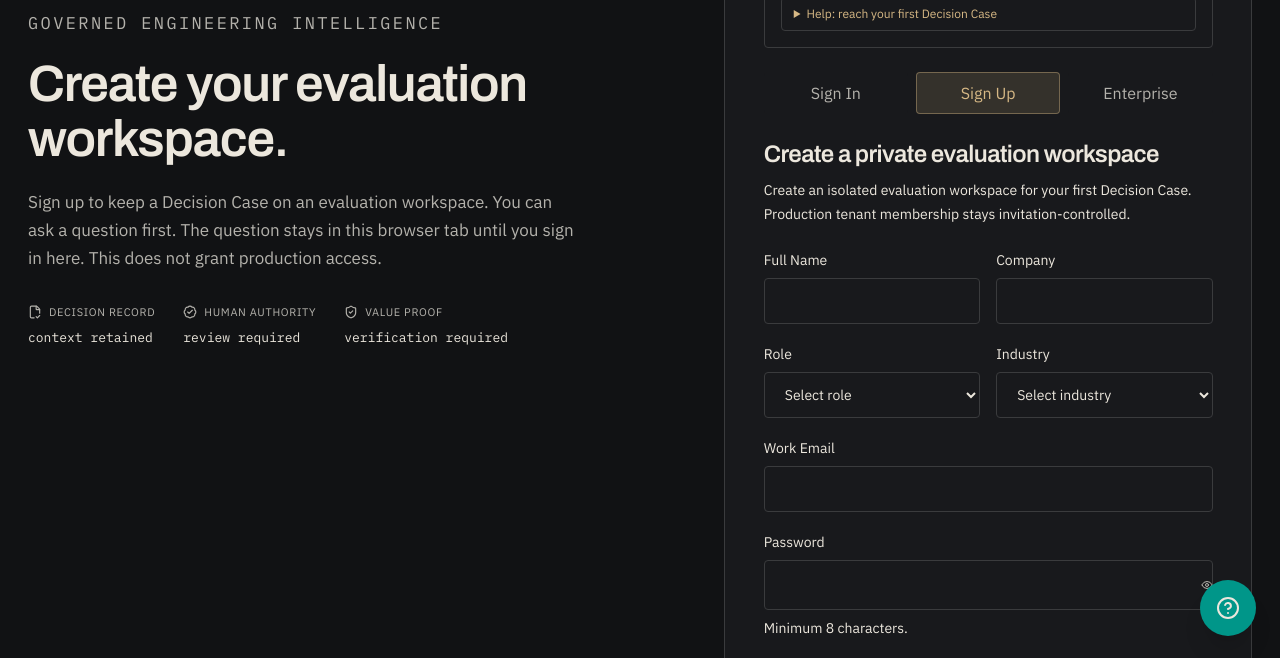
Test case: Signup industry selection › does not offer Create a workspace after signup confirmation
This screenshot has width=1280, height=658.
(page scrolled)
Type "Ada Lovelace" into the field labelled "Full Name". click: (872, 301)
box: [764,278,980,324]
Type "Analytical Engines" into the field labelled "Company". click: (1104, 301)
box: [996,278,1213,324]
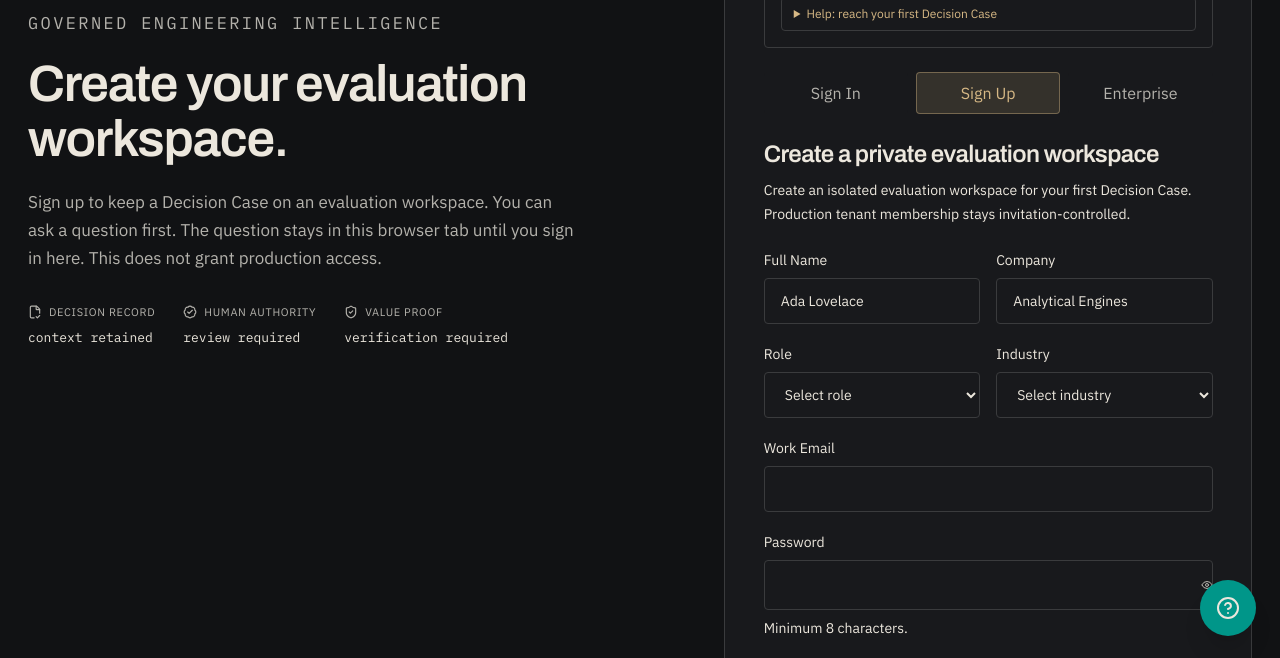
Select "Reliability Engineer" in the dropdown labelled "Role". click: (872, 395)
box: [764,372,980,418]
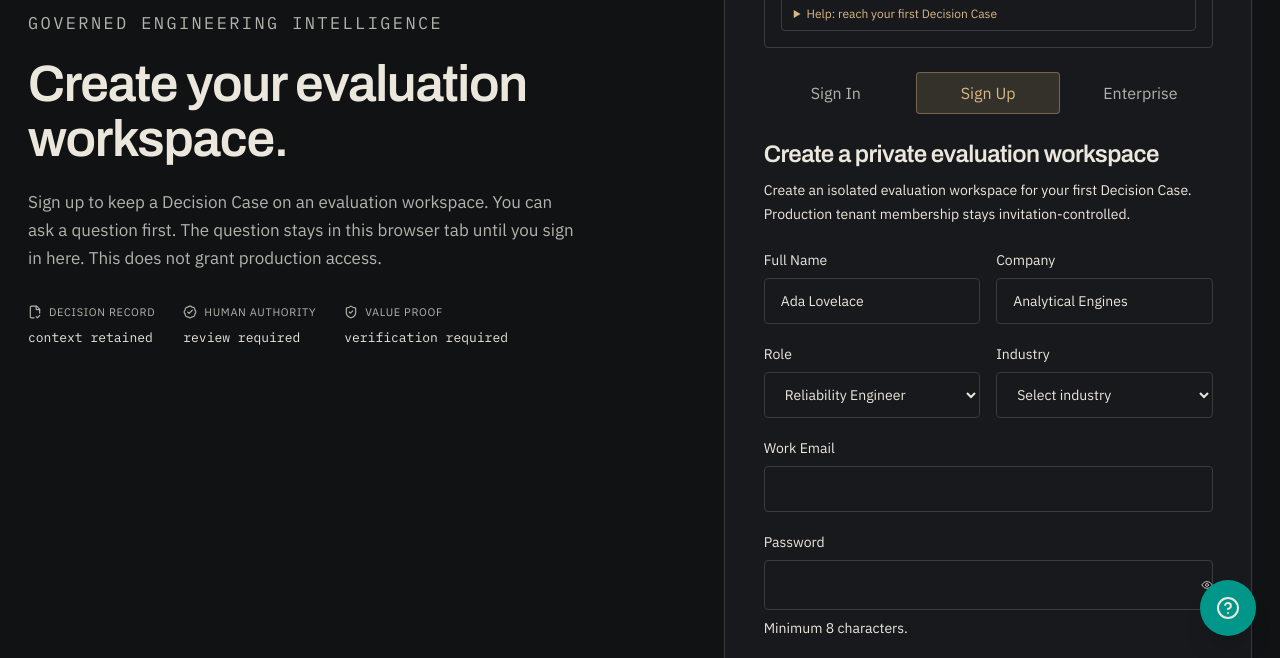
Select "Oil Sands" in the dropdown labelled "Industry". click: (1104, 395)
box: [996,372,1213,418]
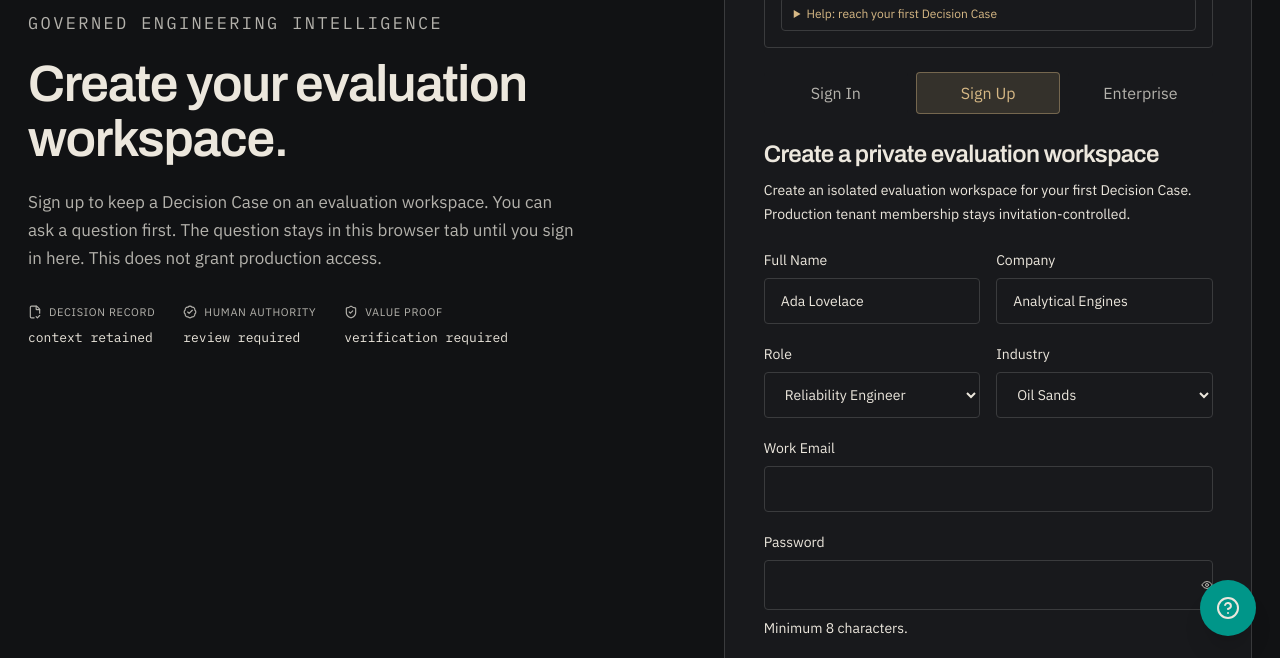
Type "ada@example.com" into the field labelled "Work Email". click: (988, 489)
box: [764,466,1213,512]
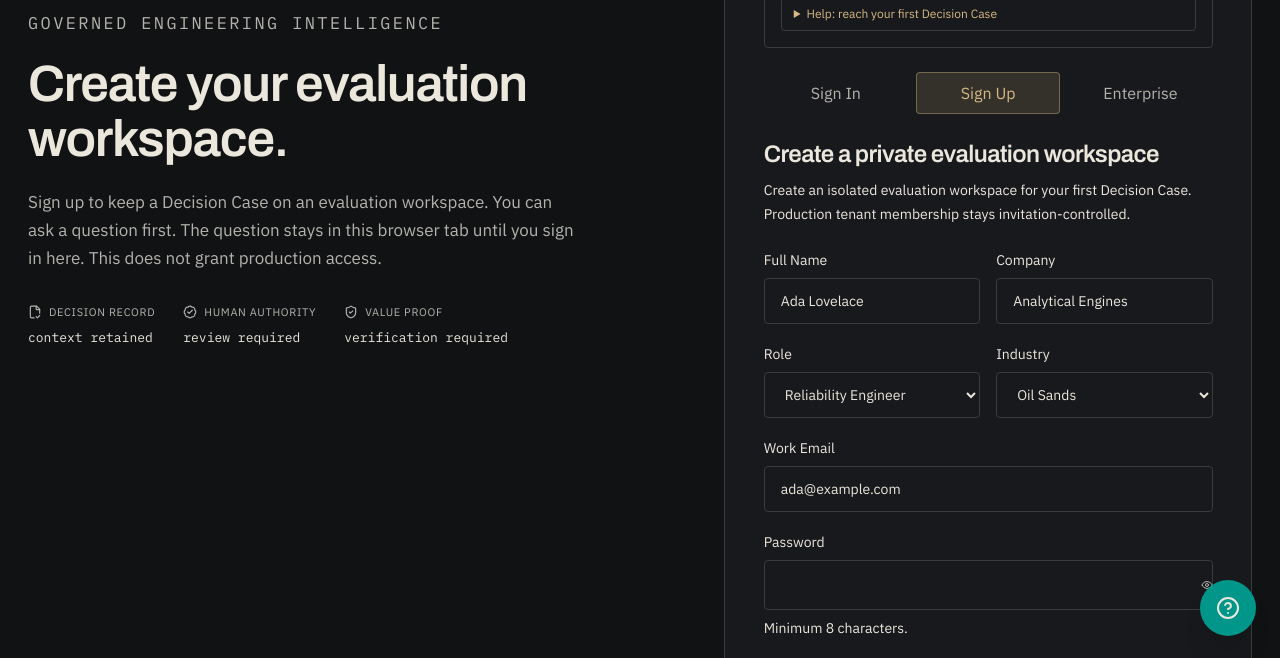
Type "long-enough-password" into the password field labelled "Password". click: (988, 585)
box: [764,560,1213,610]
(page scrolled)
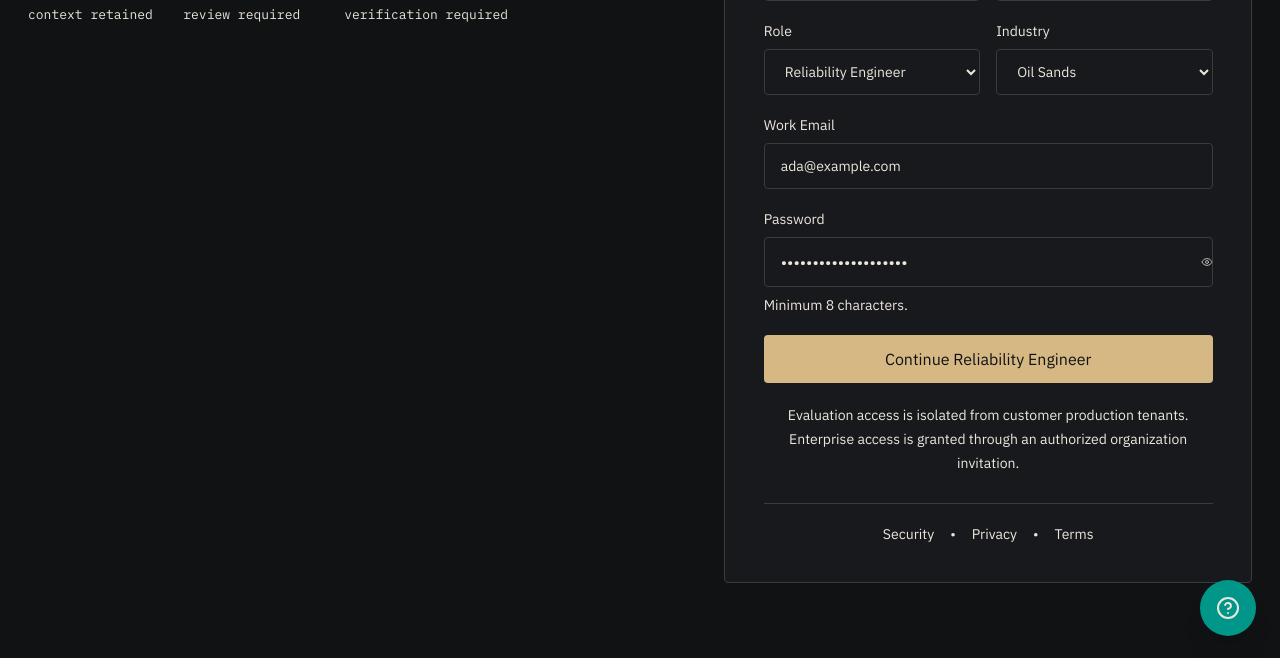
Click the button "Continue Reliability Engineer". click: click(988, 359)
box: [764,335,1213,383]
(page scrolled)
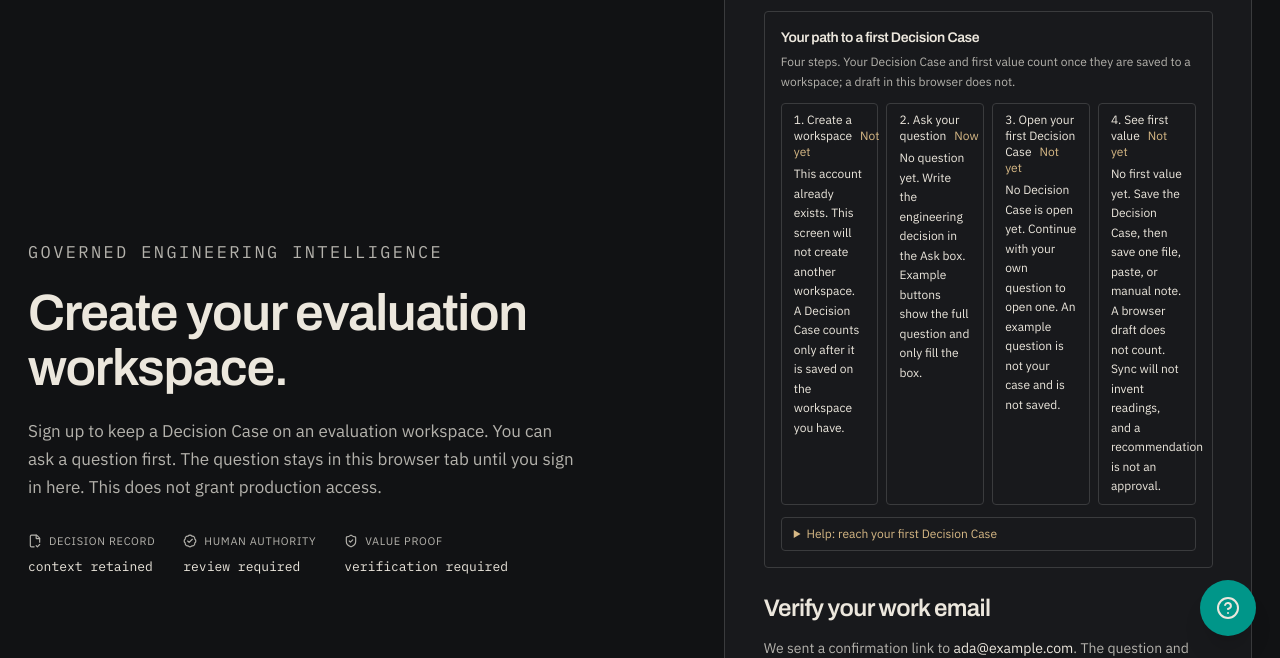
Now the heading "Verify your work email" is shown, box [764,595,990,621]
Now the text "will not create another workspace" is shown, box [794,166,862,435]
